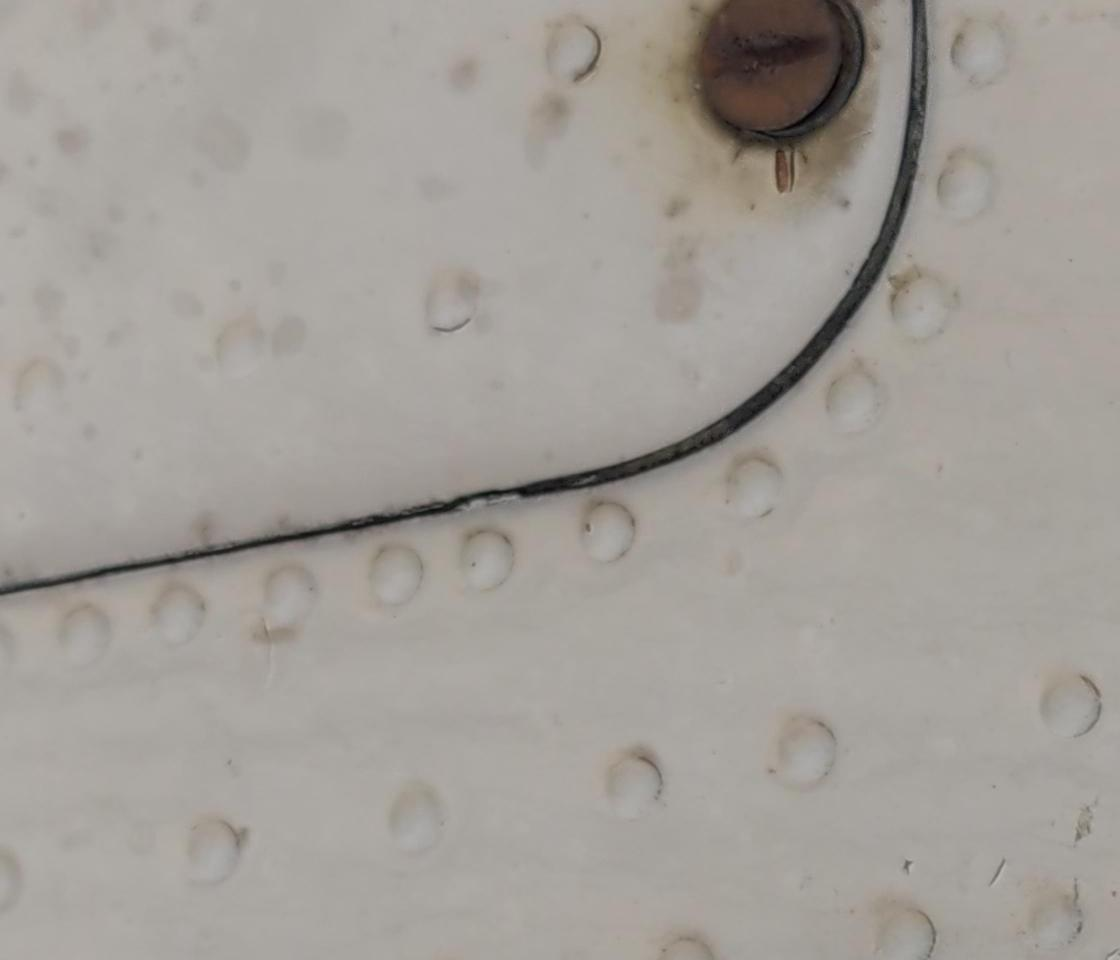rivet_damage: (688, 3, 873, 143)
